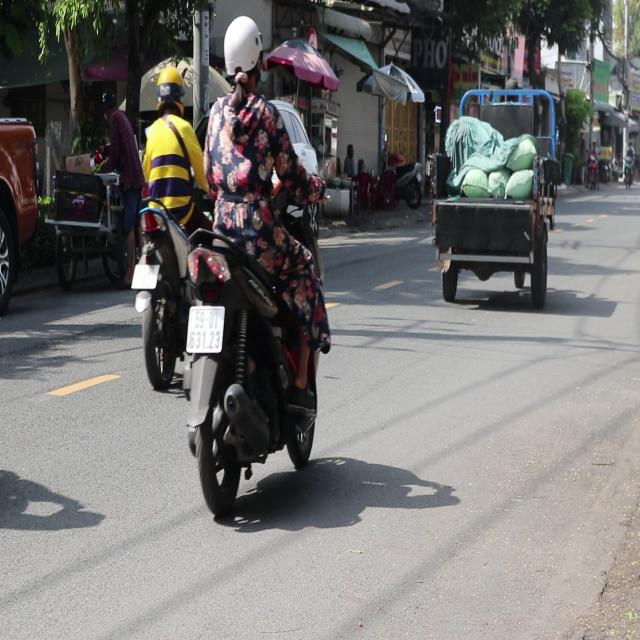helmet: (222, 15, 264, 96), (154, 63, 186, 117)
licenseplate: (180, 12, 335, 524), (130, 61, 210, 391)
nohelmet: (187, 308, 224, 352), (132, 263, 158, 288)
